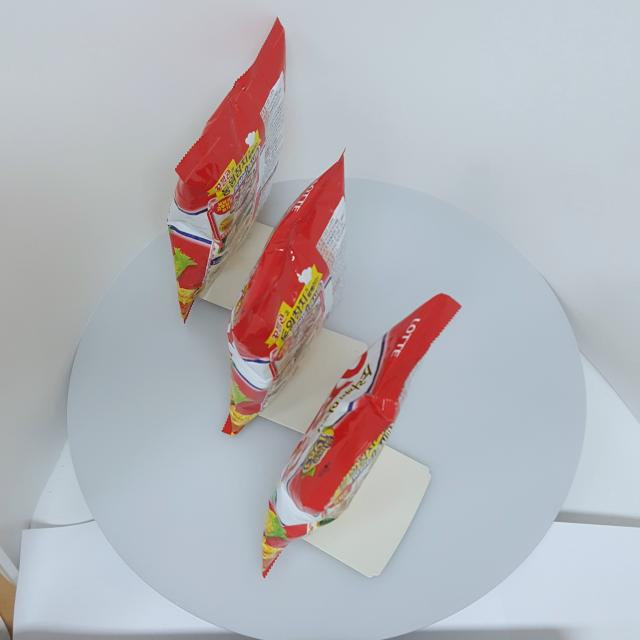-72G: (263, 293, 464, 579), (167, 17, 287, 325), (222, 148, 349, 437)
